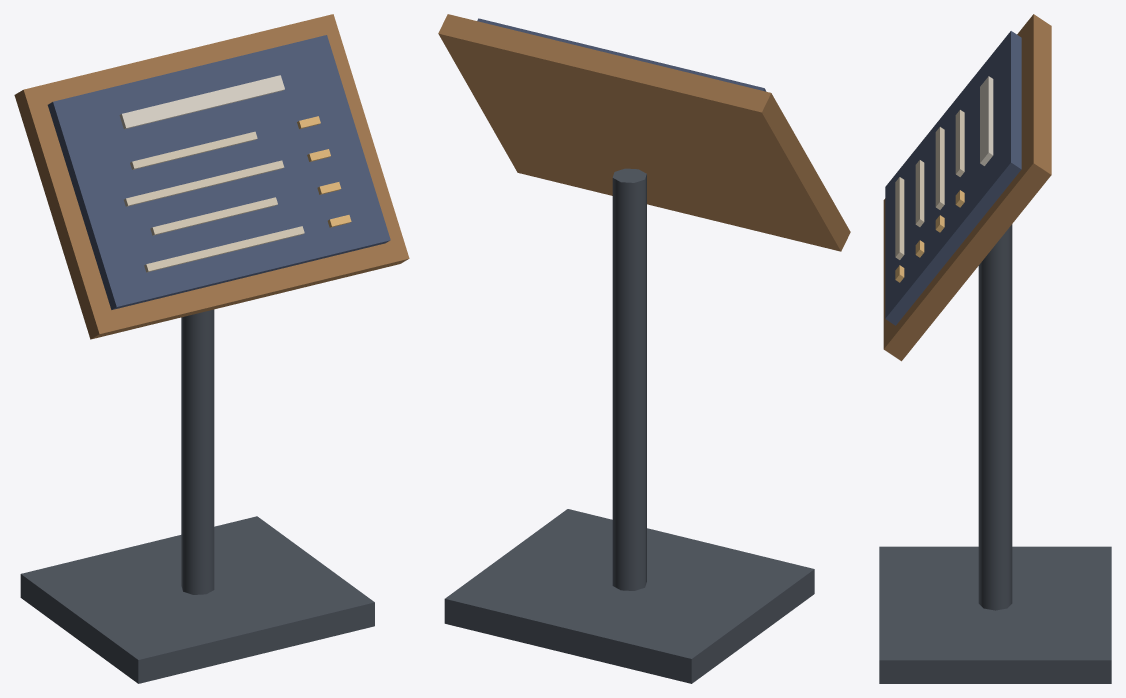
The model's file is komachi-menu-stand.glb.
3 views of the same model, side by side, from view 1: azimuth 30°, elevation 25°; view 2: azimuth 150°, elevation 25°; view 3: azimuth 270°, elevation 25° (orthographic). The views are drawn at different scales.
Parts seen in each view (by area): view 1: Menu_Stand; view 2: Menu_Stand; view 3: Menu_Stand.
Boxes of the visible parts, <box> form: Menu_Stand: <box>14,14,409,683</box>; Menu_Stand: <box>438,14,850,683</box>; Menu_Stand: <box>879,14,1111,683</box>.
Size of the model in its own units: 0.19 by 0.3199 by 0.125.
